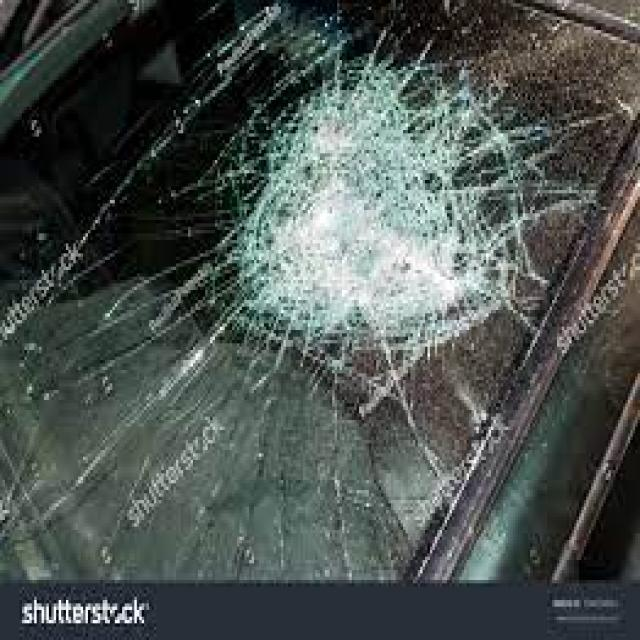damaged-windscreen: (0, 0, 640, 578)
